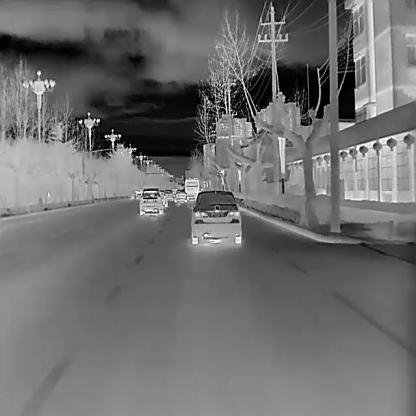bus: (185, 177, 198, 200)
car: (191, 190, 241, 244), (138, 188, 162, 214), (174, 188, 186, 202), (158, 190, 168, 206), (164, 188, 174, 200)
